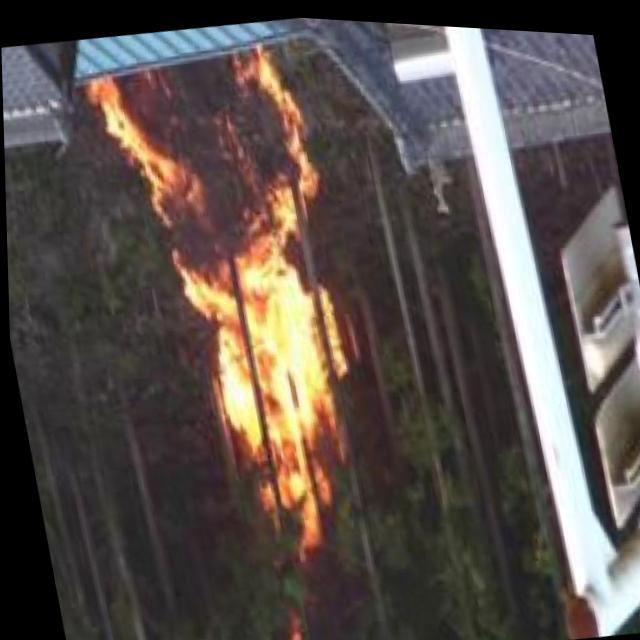fire: (82, 36, 384, 564)
